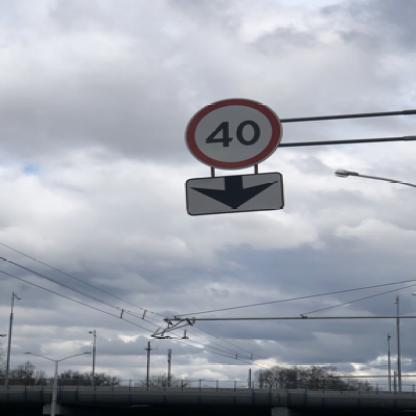Speed Limit 40: (186, 98, 281, 166)
